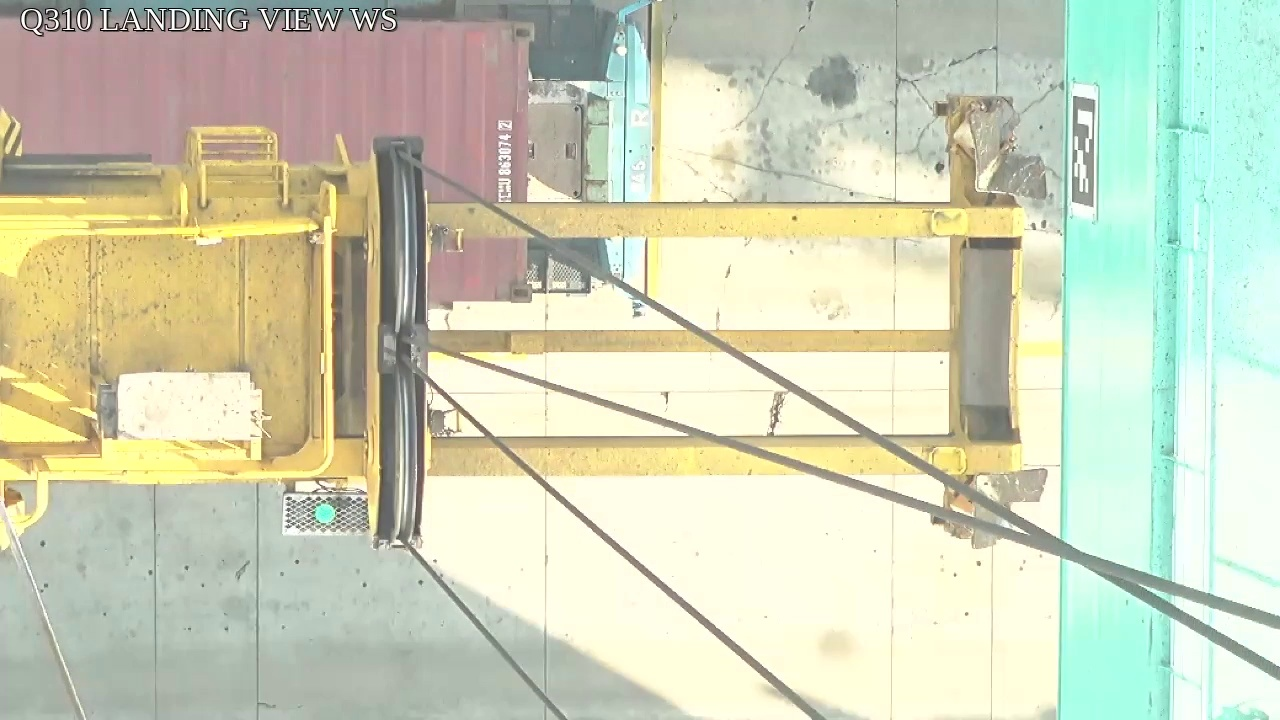right: (362, 136, 431, 552)
